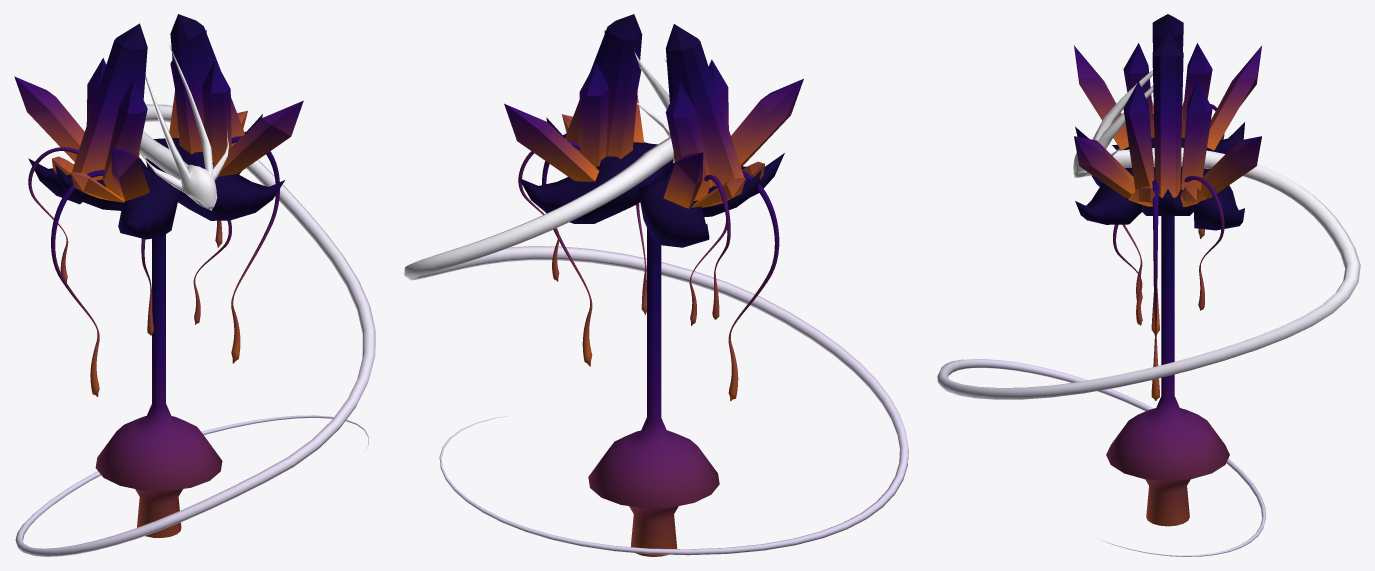
The model's file is MOD_Warmtebron_OPEN.fbx.
3 views of the same model, side by side, from view 1: azimuth 30°, elevation 25°; view 2: azimuth 150°, elevation 25°; view 3: azimuth 270°, elevation 25° (orthographic). The views are drawn at different scales.
Parts seen in each view (by area): view 1: MOD_Warmtebron_OPEN; view 2: MOD_Warmtebron_OPEN; view 3: MOD_Warmtebron_OPEN.
Part boxes in pixels (x1,y1,x2,y2): MOD_Warmtebron_OPEN: (14,14,375,556); MOD_Warmtebron_OPEN: (404,14,908,556); MOD_Warmtebron_OPEN: (937,14,1360,556).
Bounding box in the file's own units: 15.08 × 19.46 × 15.11.
